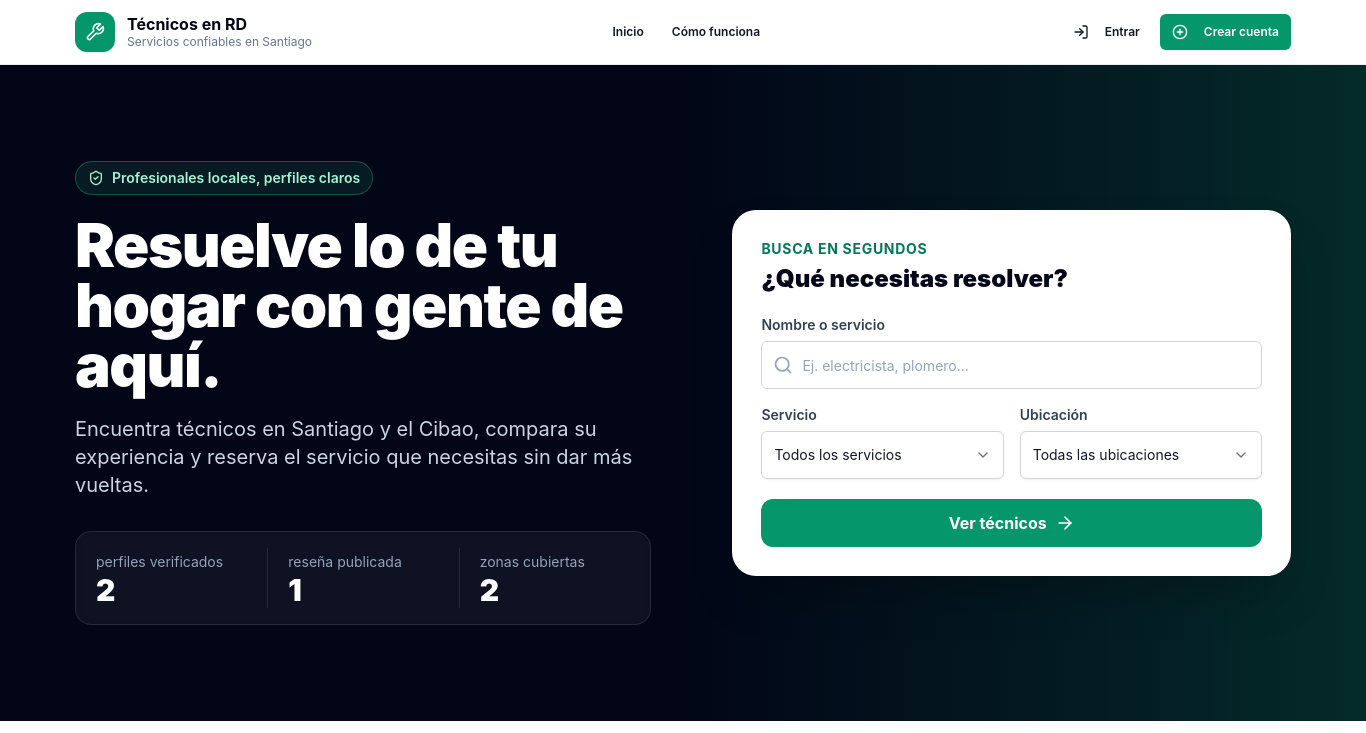
it: top-level views are exclusive
Click the button "Cómo funciona" at (716, 32), box [660, 14, 772, 50]
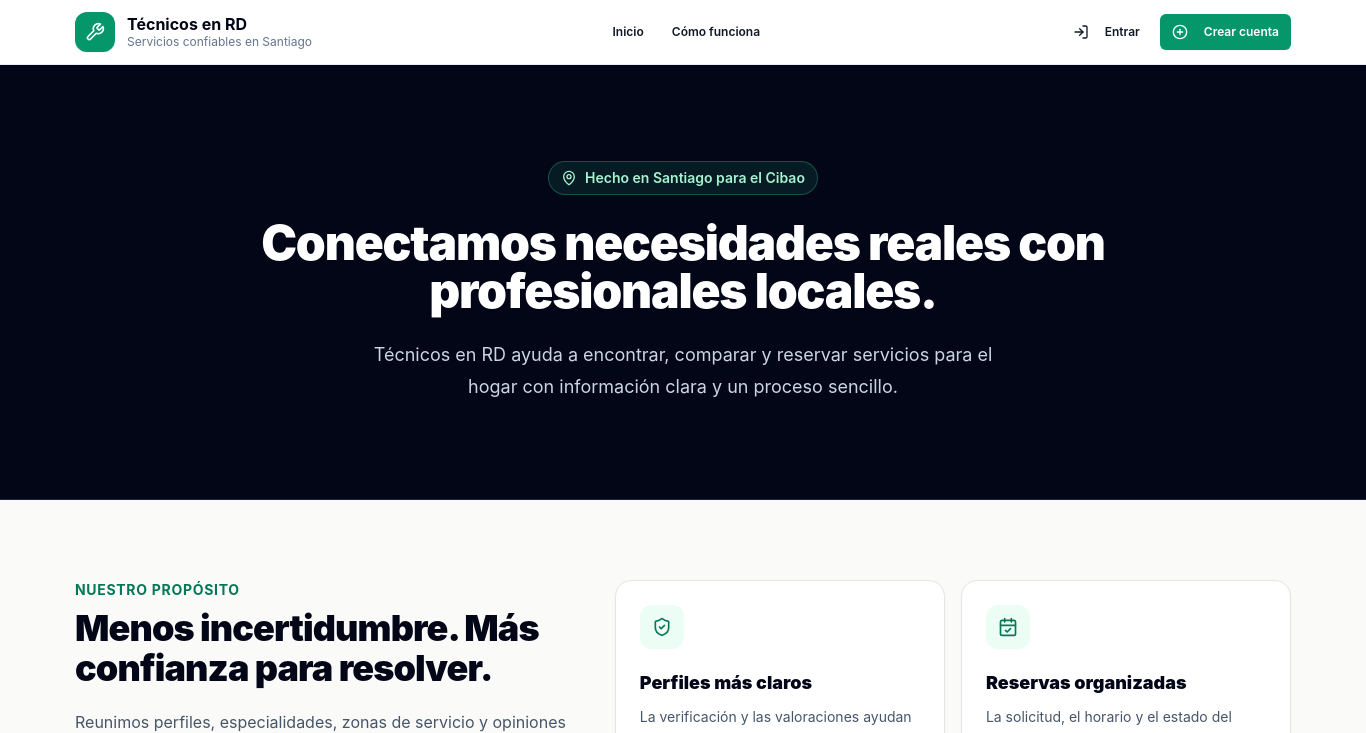
Expected: the heading "Conectamos necesidades reales con profesionales locales." is shown, [235, 219, 1131, 315]
Expected: the heading "Resuelve lo de tu hogar" is gone
